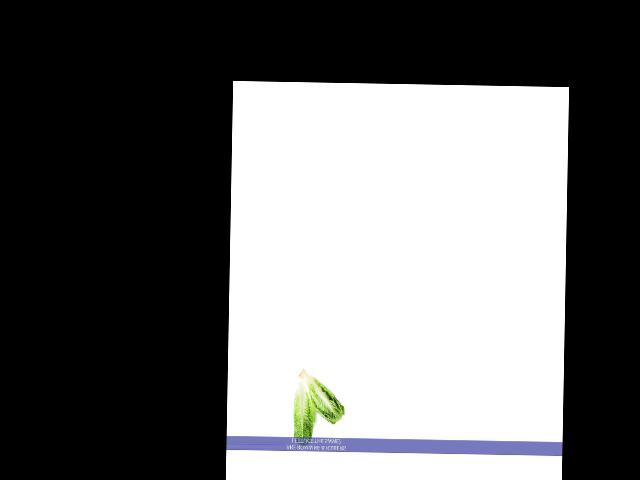lettuce: (295, 369, 344, 428)
